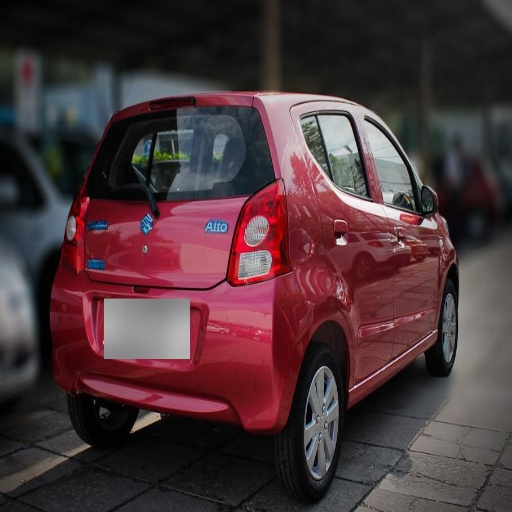back_bumper: (52, 272, 307, 430)
back_right_door: (300, 107, 396, 381)
trunk: (82, 198, 249, 304)
